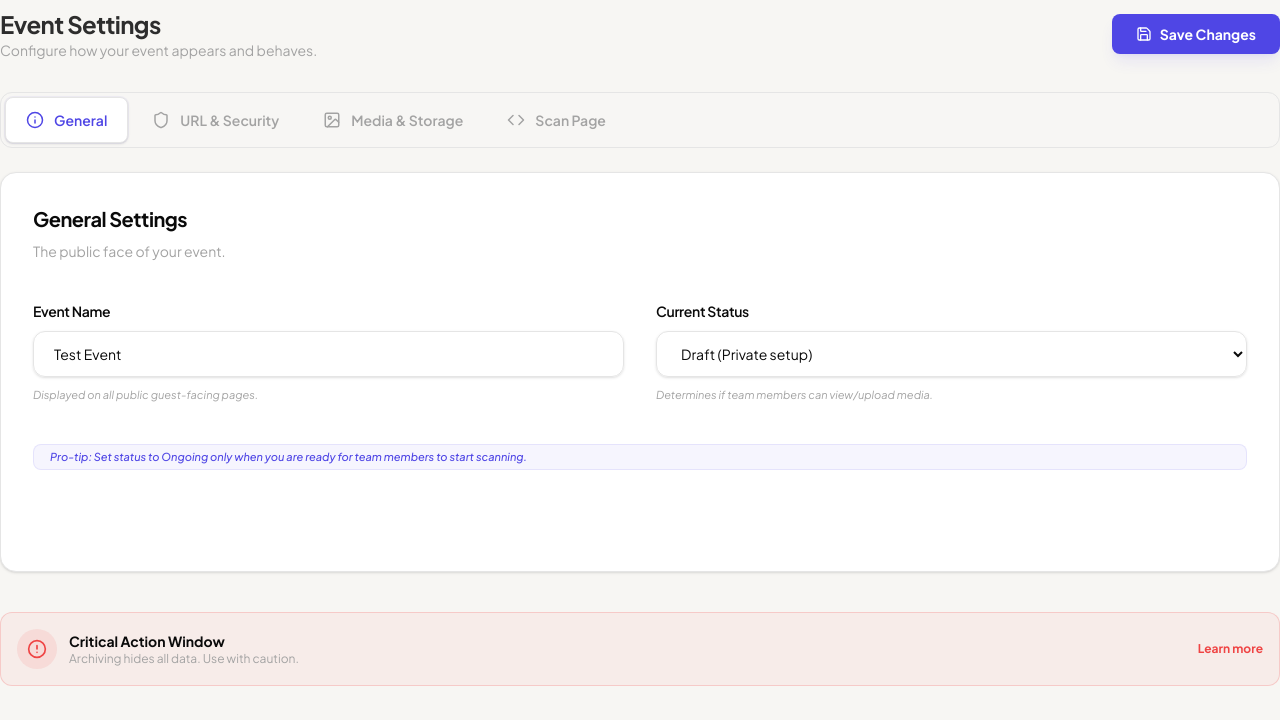
Test: GeneralTab › US2: shows archive confirmation modal
Step 1. Click the button "Learn more" → (1230, 649), box [1198,641,1263,657]
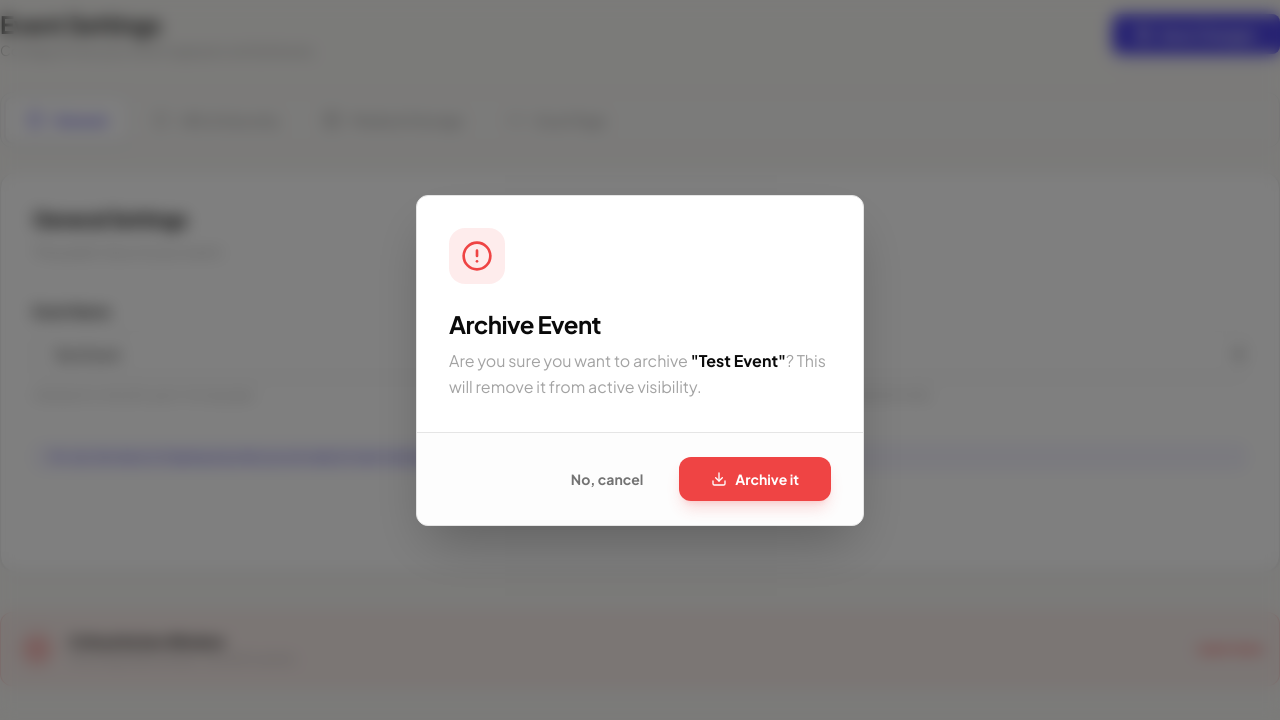
Now the text "Are you sure you want to archive" is shown, box [449,350,691,370]
Now the button "Archive it" is shown, box [679,456,831,500]
